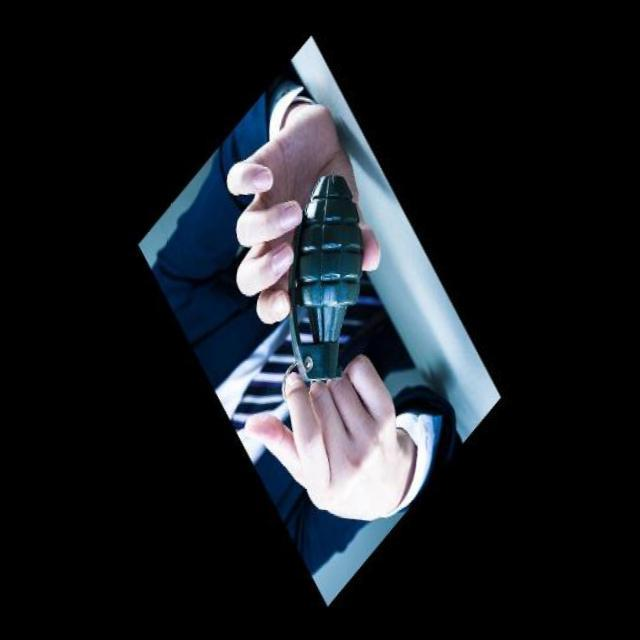grenade: (278, 168, 376, 392)
